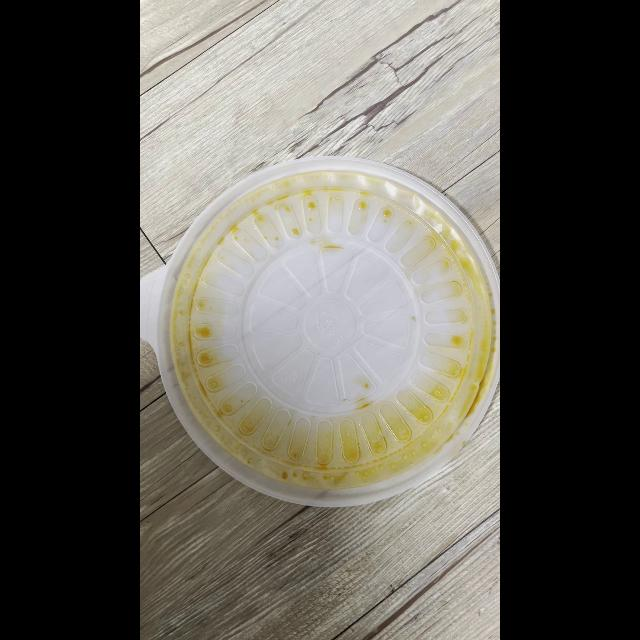dirty: (162, 158, 494, 496)
